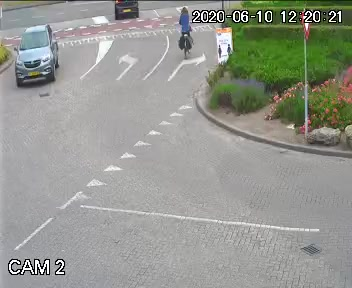car: (6, 22, 59, 90), (112, 0, 140, 22)
